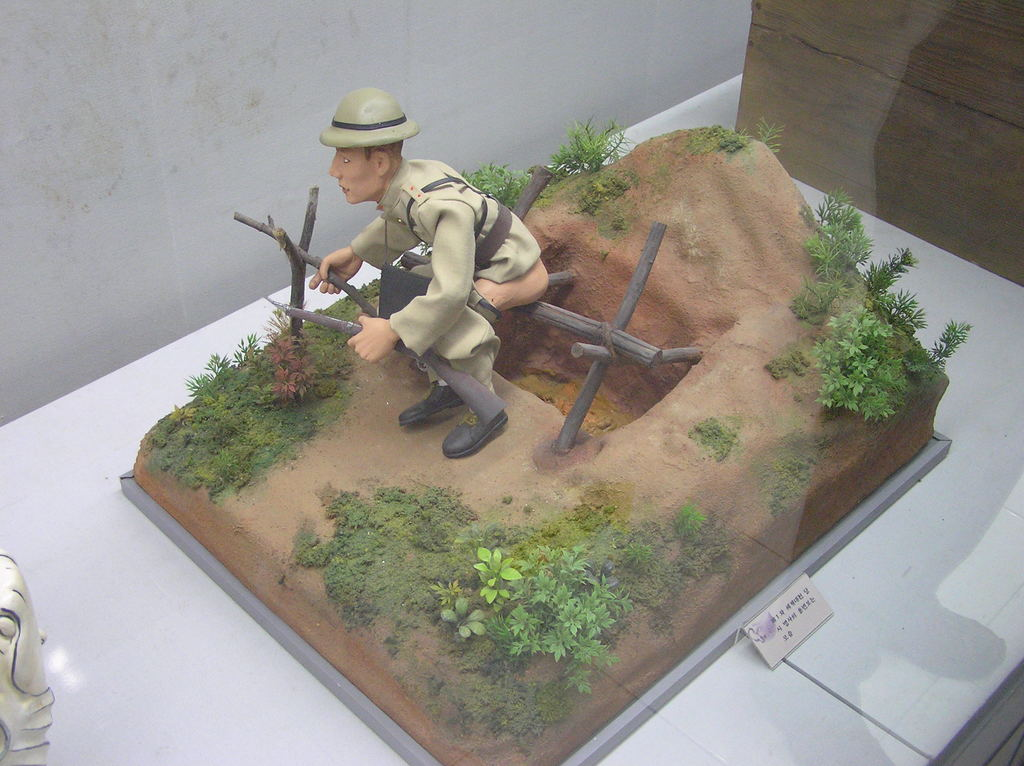Person: (308, 87, 548, 458)
